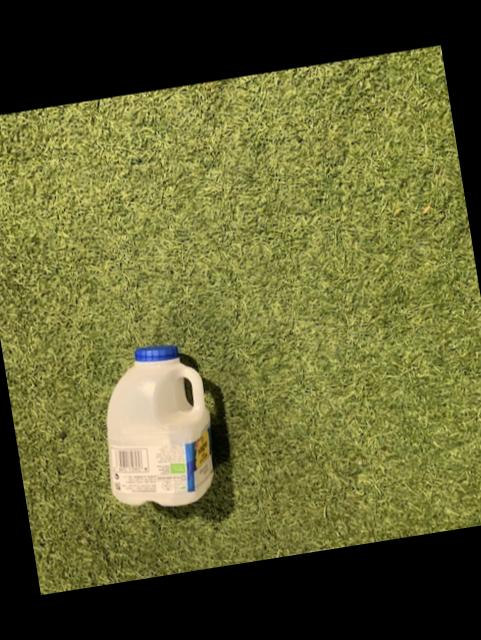plastic: (108, 347, 214, 507)
